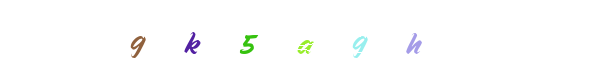5: (208, 0, 288, 80)
A: (249, 0, 329, 80)
G: (98, 0, 178, 80), (255, 0, 335, 80)
H: (306, 0, 386, 80)
K: (152, 0, 232, 80)
